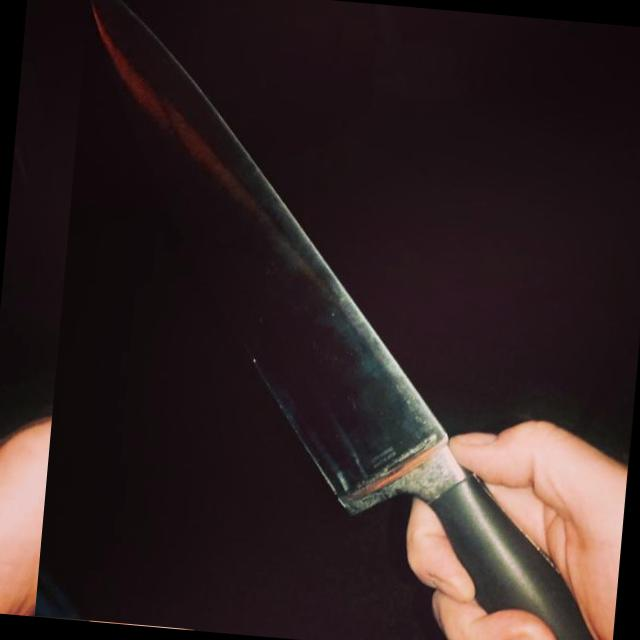Knife: (88, 0, 593, 640)
